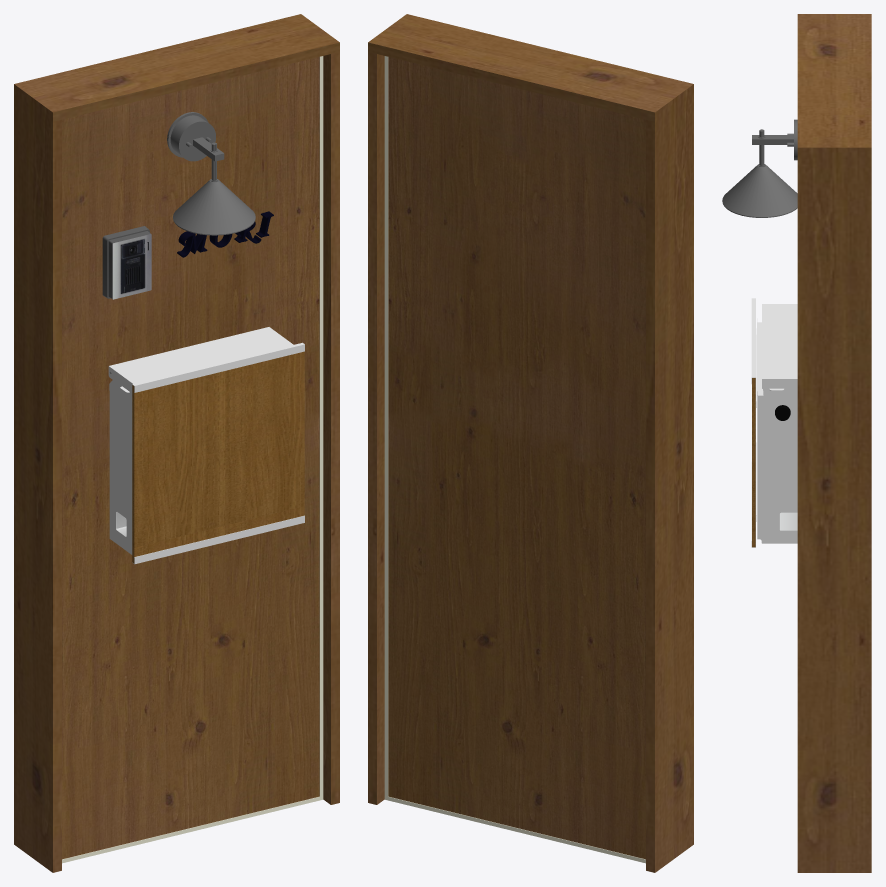
The model's file is 640ｰ1620_casualnaturalpain.fbx.
3 views of the same model, side by side, from view 1: azimuth 30°, elevation 25°; view 2: azimuth 150°, elevation 25°; view 3: azimuth 270°, elevation 25° (orthographic). The views are drawn at different scales.
Parts seen in each view (by area): view 1: 640ｰ1620_casualnaturalpain; view 2: 640ｰ1620_casualnaturalpain; view 3: 640ｰ1620_casualnaturalpain.
Boxes of the visible parts, <box> form: 640ｰ1620_casualnaturalpain: <box>14,14,339,872</box>; 640ｰ1620_casualnaturalpain: <box>368,14,693,872</box>; 640ｰ1620_casualnaturalpain: <box>722,14,871,872</box>.
Size of the model in its own units: 64 by 162 by 30.22.
14 materials, 5 textured.
